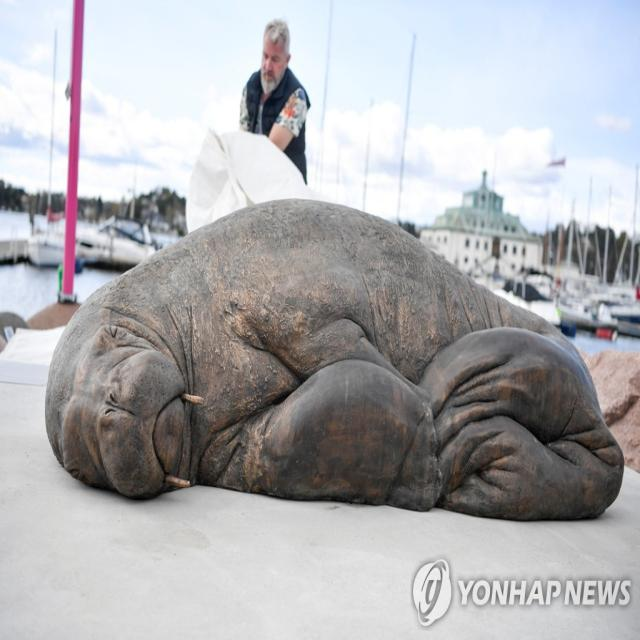walrus: (24, 161, 626, 537)
